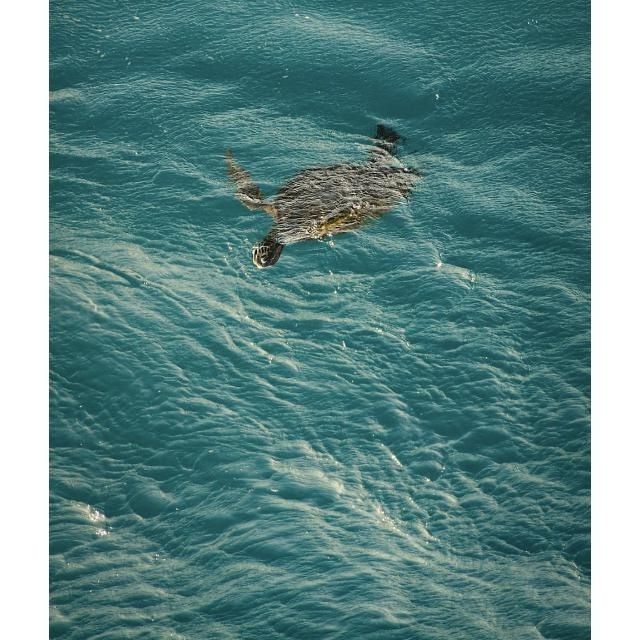turtle: (223, 122, 427, 270)
